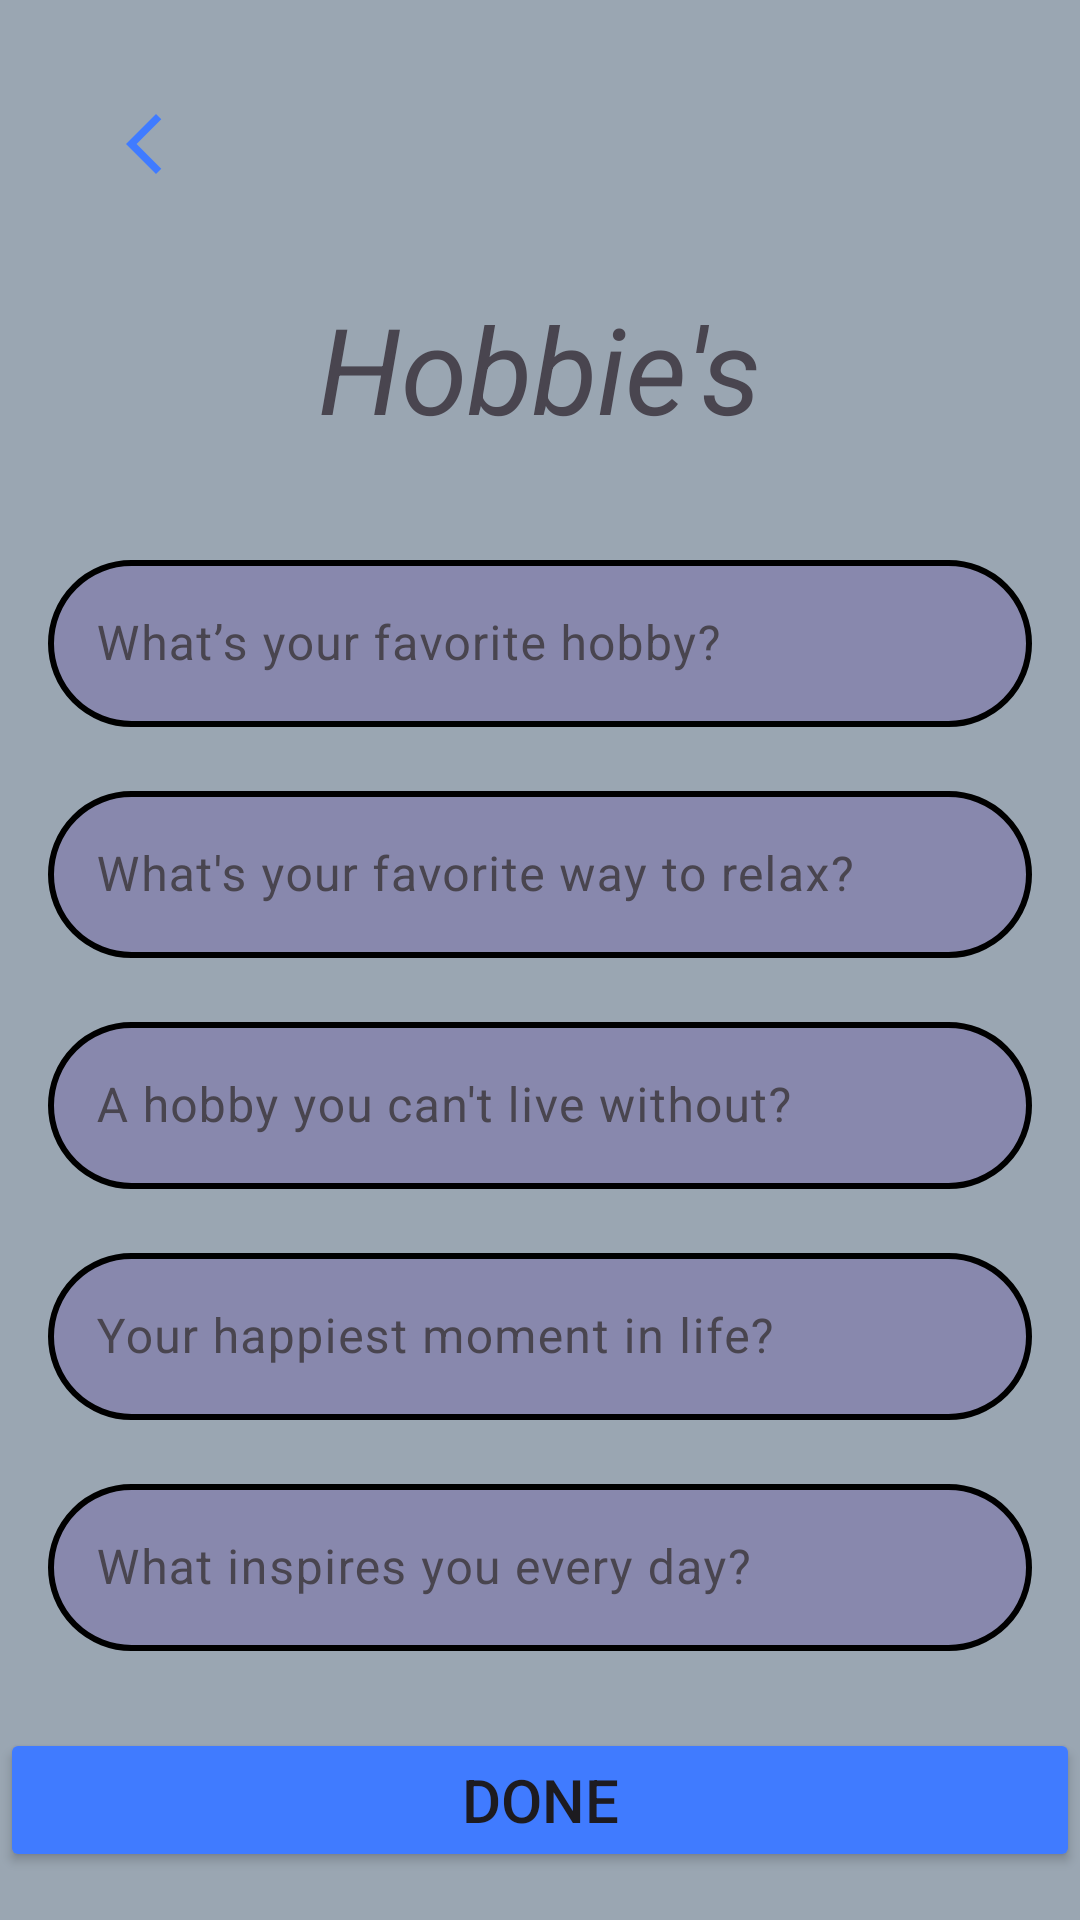

Point at icon controls on the screen. Image size 1080x1920, points as point (x, y).
Back button: point (143, 144)
